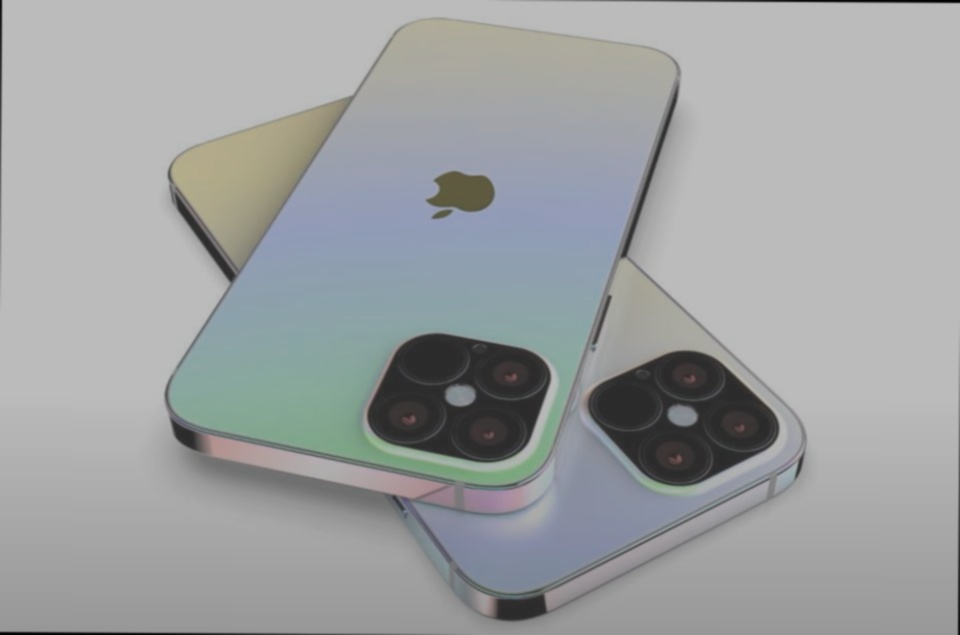iphone: (166, 18, 680, 514)
